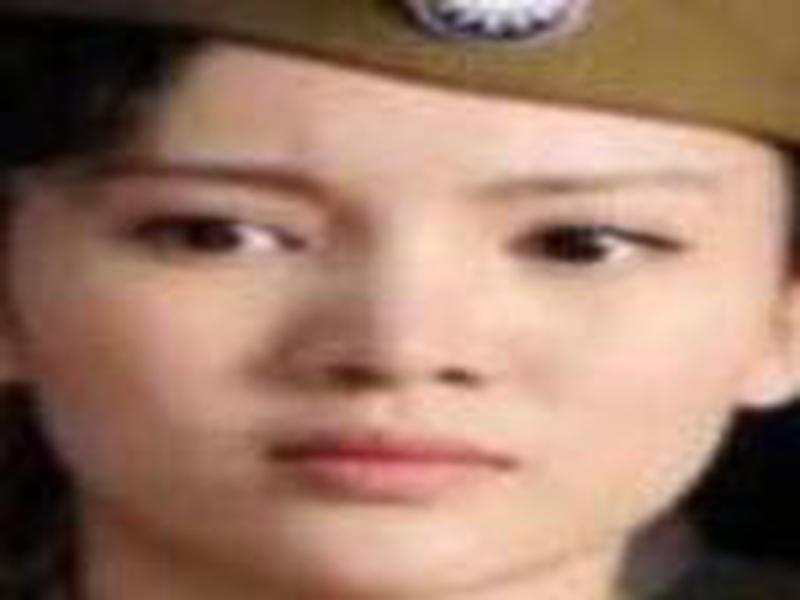without_mask: (19, 67, 768, 595)
